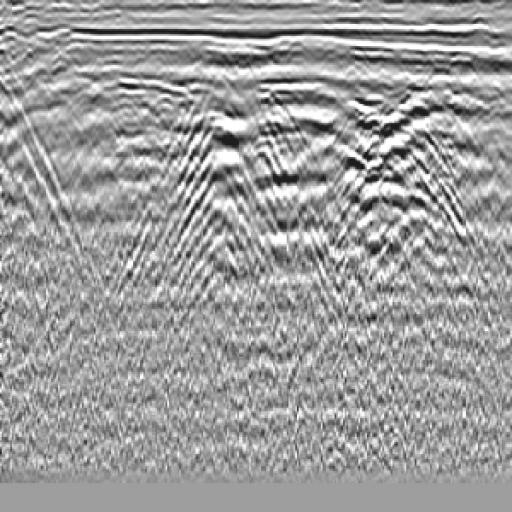metalic: (122, 63, 266, 152)
